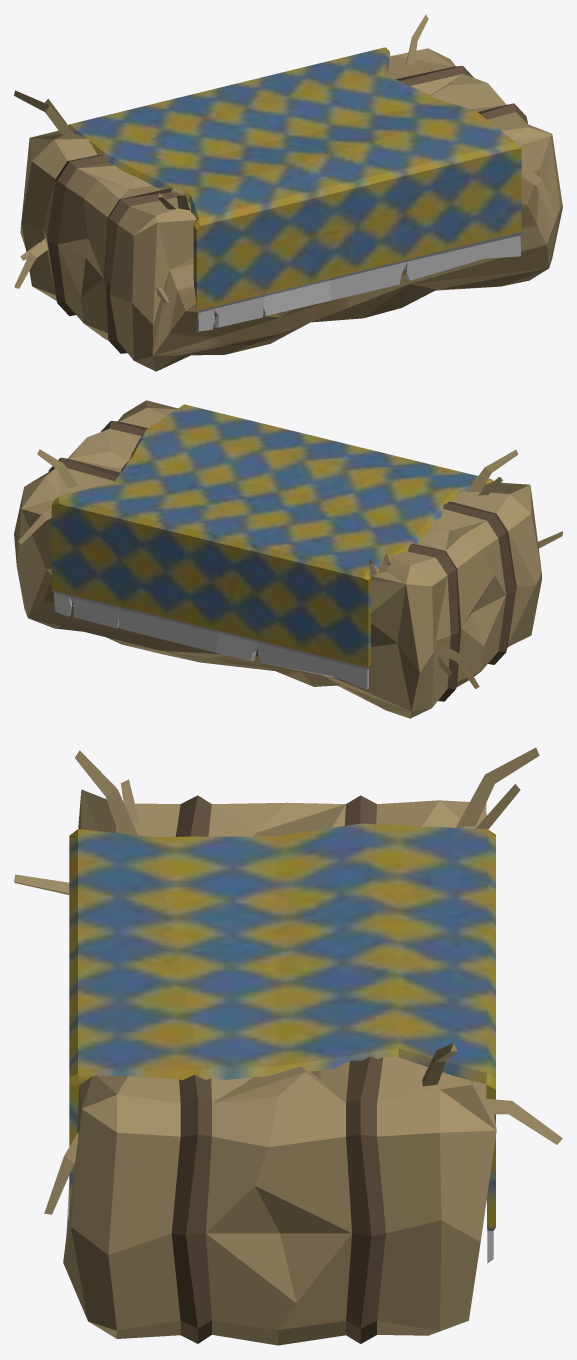
The model's file is hay-seat.glb.
3 renders of one model, top to bottom at view 1: azimuth 30°, elevation 25°; view 2: azimuth 150°, elevation 25°; view 3: azimuth 270°, elevation 25°, orthographic. The views are drawn at different scales.
Parts seen in each view (by area): view 1: SM_Prop_Hay_Seat_01; view 2: SM_Prop_Hay_Seat_01; view 3: SM_Prop_Hay_Seat_01.
Boxes of the visible parts, x1,y1,x2,y2 form: SM_Prop_Hay_Seat_01: [14, 14, 562, 371]; SM_Prop_Hay_Seat_01: [14, 400, 562, 718]; SM_Prop_Hay_Seat_01: [14, 747, 562, 1345].
Size of the model in its own units: 212 by 93.23 by 138.
1 material, 1 textured.
